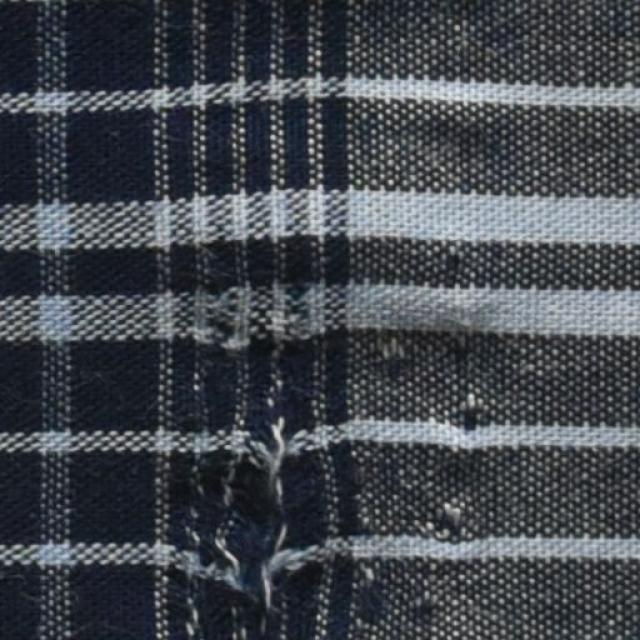Snag: (171, 407, 341, 639), (423, 488, 482, 554), (444, 380, 490, 428), (409, 584, 453, 626), (364, 329, 407, 369)
